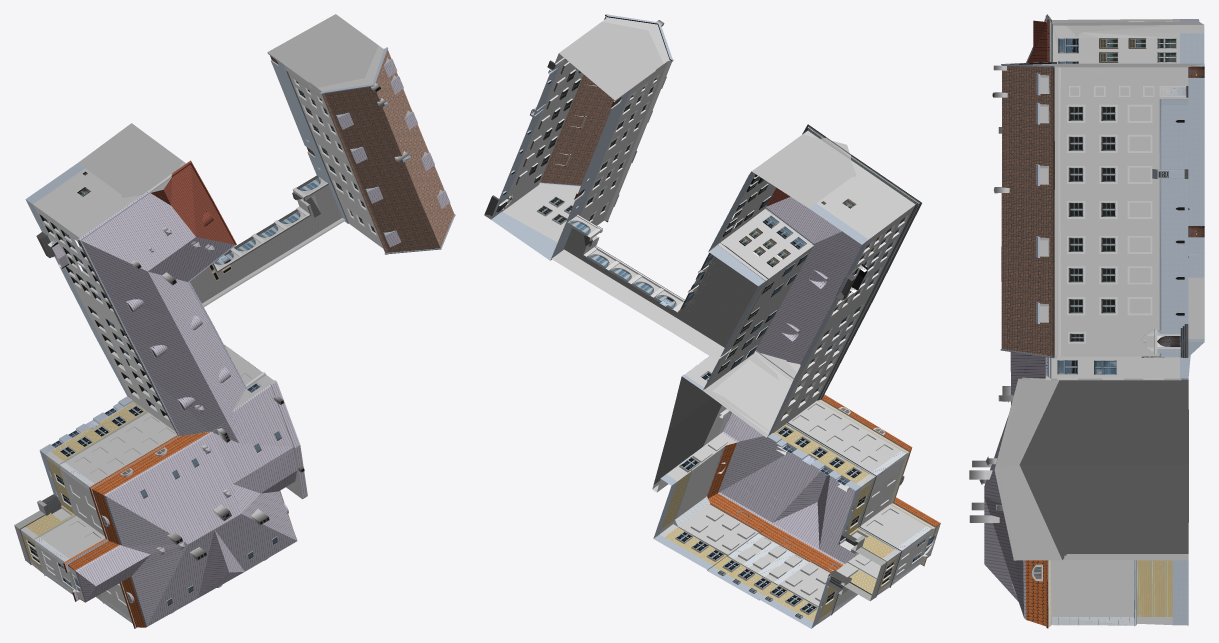
File: Suur-Kloostri_16_1.obj
3 views of the same model, side by side, from view 1: azimuth 30°, elevation 25°; view 2: azimuth 150°, elevation 25°; view 3: azimuth 270°, elevation 25° (orthographic). The views are drawn at different scales.
Visible parts, largest first — view 1: Gustav_Adolfi_Gumnaasium, Suur_Klostri_10, Aida_2; view 2: Gustav_Adolfi_Gumnaasium, Suur_Klostri_10, Aida_2; view 3: Aida_2, Gustav_Adolfi_Gumnaasium, Suur_Klostri_10.
Part boxes in pixels (<box>): Gustav_Adolfi_Gumnaasium: <box>14,344,307,628</box>; Suur_Klostri_10: <box>25,123,345,435</box>; Aida_2: <box>267,14,455,254</box>; Gustav_Adolfi_Gumnaasium: <box>652,350,940,628</box>; Suur_Klostri_10: <box>551,124,921,437</box>; Aida_2: <box>484,14,673,260</box>; Aida_2: <box>992,62,1204,358</box>; Gustav_Adolfi_Gumnaasium: <box>969,375,1188,628</box>; Suur_Klostri_10: <box>998,14,1204,378</box>.
Bounding box in the file's own units: 63.95 × 79.16 × 24.31.
